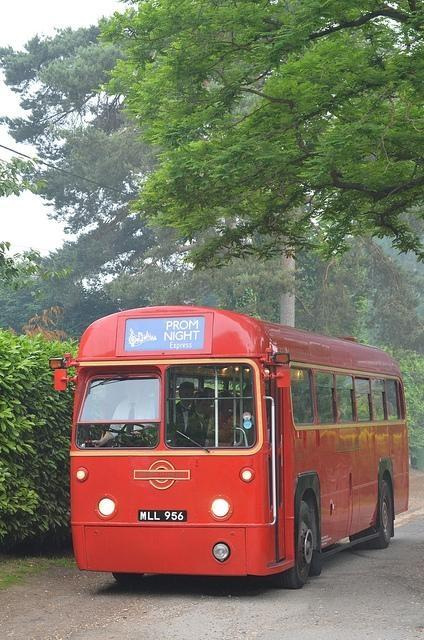bus: (50, 302, 412, 584)
